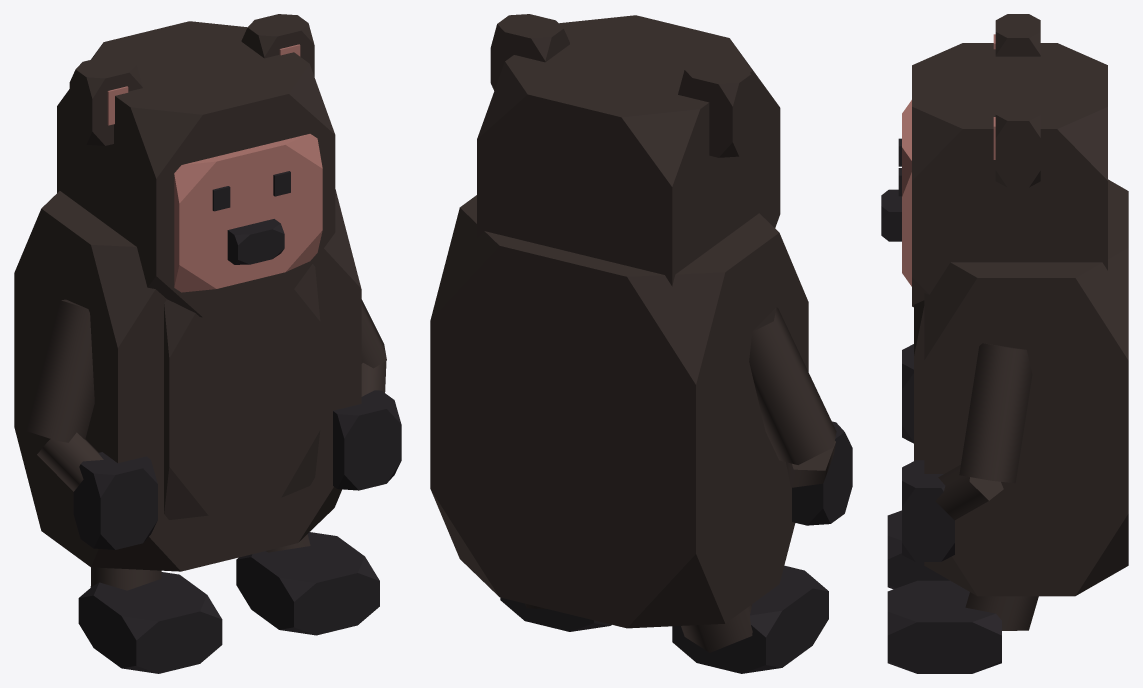
File: original-chimp.glb
3 views of the same model, side by side, from view 1: azimuth 30°, elevation 25°; view 2: azimuth 150°, elevation 25°; view 3: azimuth 270°, elevation 25° (orthographic). The views are drawn at different scales.
Parts seen in each view (by area): view 1: chimp; view 2: chimp; view 3: chimp.
Part boxes in pixels (<box>): chimp: <box>14,14,401,673</box>; chimp: <box>430,14,852,673</box>; chimp: <box>881,14,1128,673</box>.
Bounding box in the file's own units: 0.9974 × 1.48 × 0.6049.
